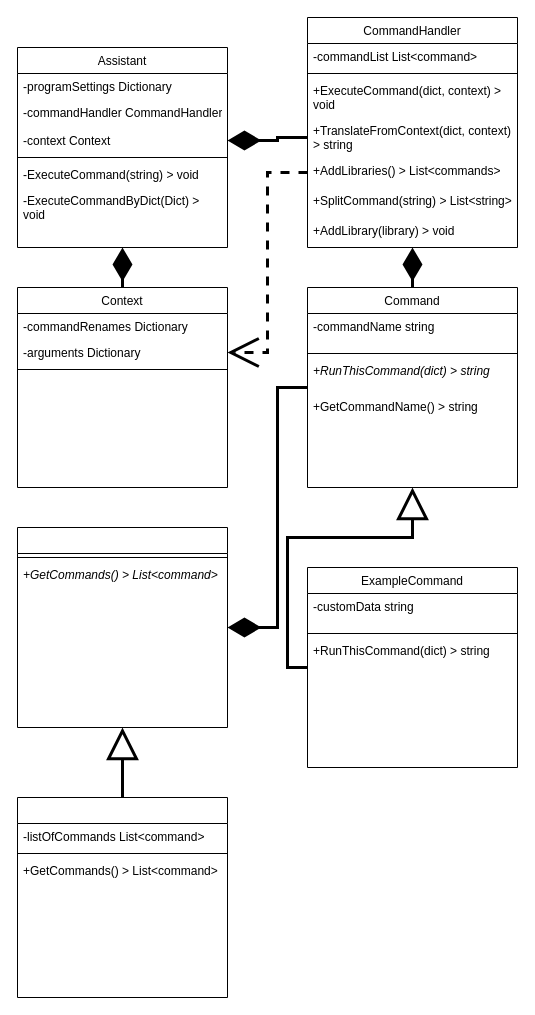
Some shapes in this 535 by 1015 pixel diagram are drawn without their labels. The box of each missing label's shape, as (x1, y1, x2, y2) in pixels:
ExampleLibrary: (16, 796, 228, 998)
Library: (16, 526, 228, 728)
